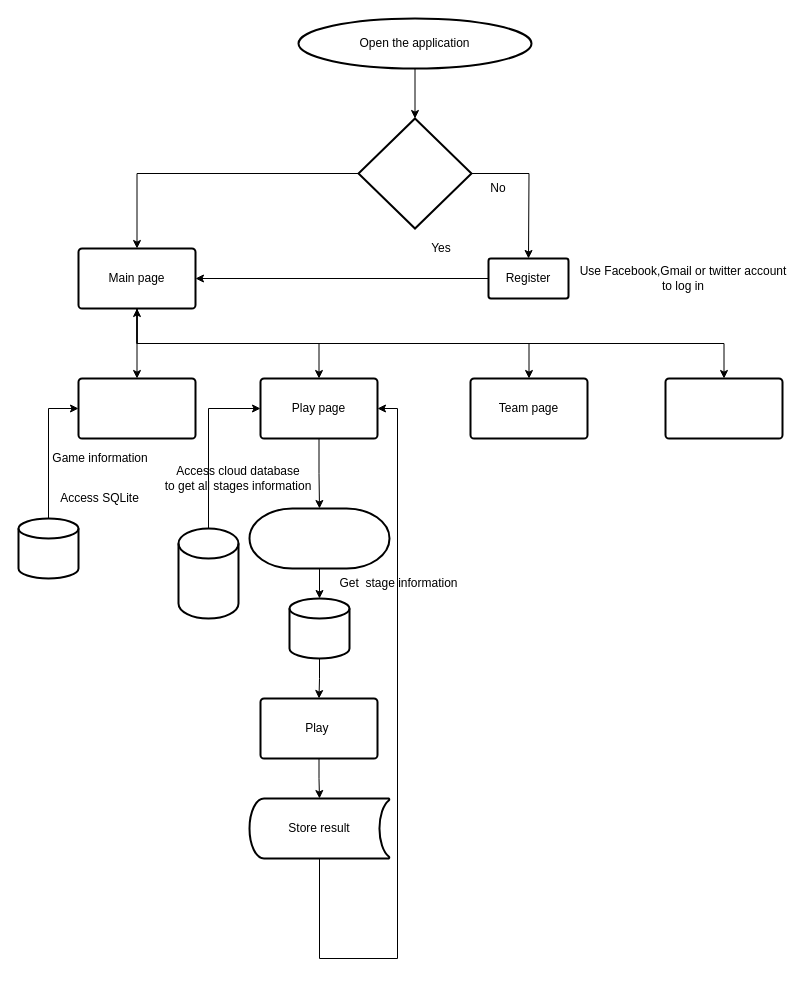
Some shapes in this 805 by 984 pixel diagram are drawn without their labels. The shapes that lost their labels are listed below. From the top down, each one's centre as x and y in pixels, then its label:
(414,173): Have account
(136,408): My page
(723,408): Draw page
(319,538): Choose stage which want challenge
